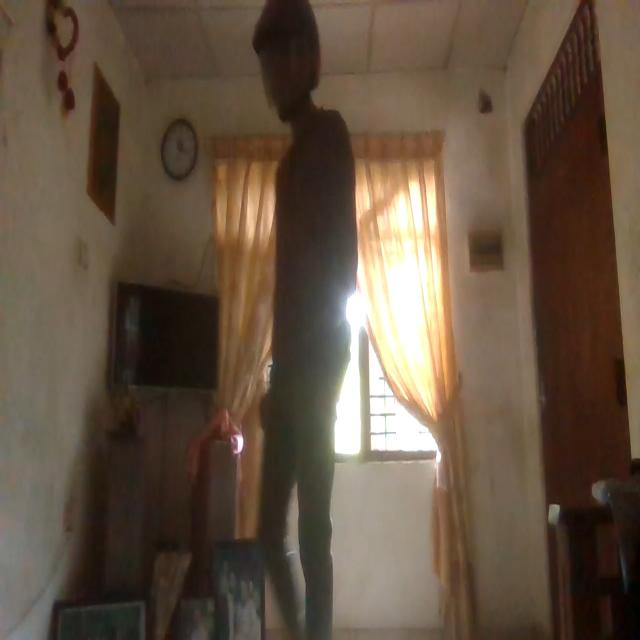Helmet_Wearer: (252, 0, 331, 117)
Person: (246, 1, 362, 640)
